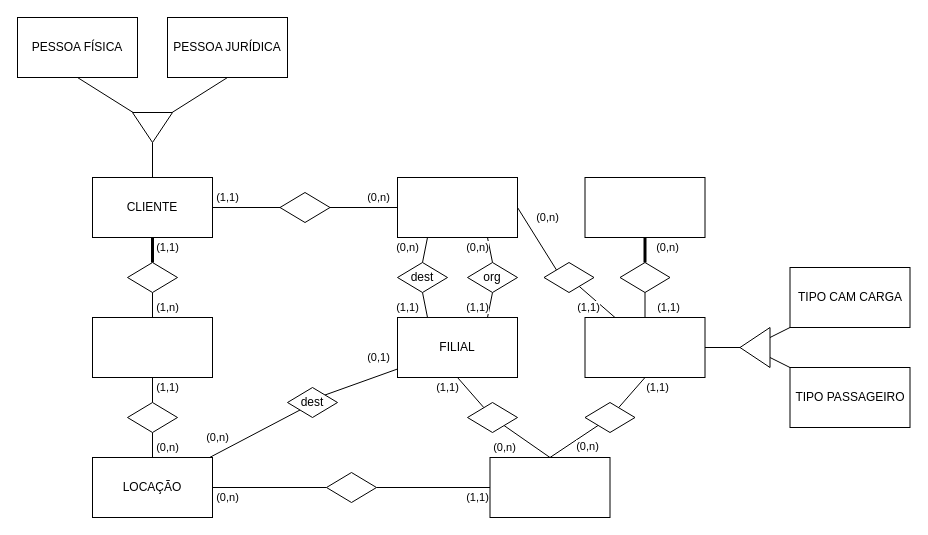
The diagram is 928 pixels wide and 535 high, and some of its shapes have lost their labels. Here are the shapes that lost their labels. From the top down, the centre of each, then its label:
the point at 457,207: RESERVA
the point at 644,207: REVISÃO
the point at 152,347: MOTORISTA
the point at 644,347: TIPO VEÍCULO
the point at 549,487: VEÍCULO
